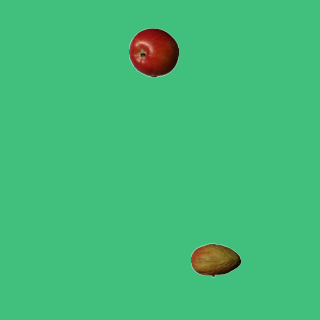Apple Braeburn: (128, 27, 178, 77)
Papaya: (190, 235, 240, 285)
